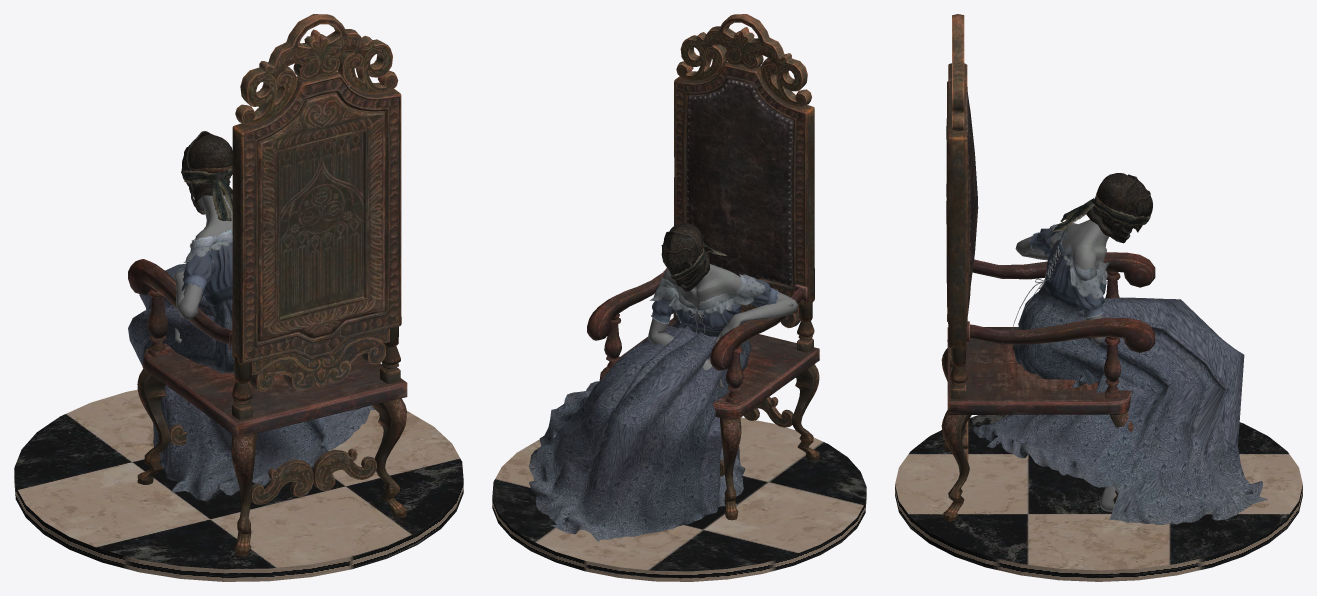
File: annalise-queen-of-the-vilebloods.glb
3 views of the same model, side by side, from view 1: azimuth 30°, elevation 25°; view 2: azimuth 150°, elevation 25°; view 3: azimuth 270°, elevation 25° (orthographic). The views are drawn at different scales.
Visible parts, largest first — view 1: 25-chair.obj, 33-Cylinder.obj, 18-bd.obj, 40-hd.obj, 38-bb_38_0; view 2: 25-chair.obj, 18-bd.obj, 33-Cylinder.obj, 38-bb_38_0, 40-hd.obj; view 3: 18-bd.obj, 33-Cylinder.obj, 25-chair.obj, 40-hd.obj, 38-bb_38_0.
Part boxes in pixels (x1,y1,x2,y2): 25-chair.obj: (128, 14, 407, 556); 33-Cylinder.obj: (14, 389, 463, 581); 18-bd.obj: (128, 229, 375, 501); 40-hd.obj: (181, 131, 232, 221); 38-bb_38_0: (173, 195, 232, 343); 25-chair.obj: (587, 14, 819, 520); 18-bd.obj: (528, 274, 778, 541); 33-Cylinder.obj: (492, 417, 866, 581); 38-bb_38_0: (648, 264, 798, 389); 40-hd.obj: (661, 223, 727, 291); 18-bd.obj: (972, 224, 1267, 524); 33-Cylinder.obj: (895, 414, 1302, 581); 25-chair.obj: (941, 14, 1155, 521); 40-hd.obj: (1046, 173, 1152, 243); 38-bb_38_0: (1015, 219, 1116, 511).
Bounding box in the file's own units: 1.6 × 2.07 × 1.6.
6 materials, 5 textured.
